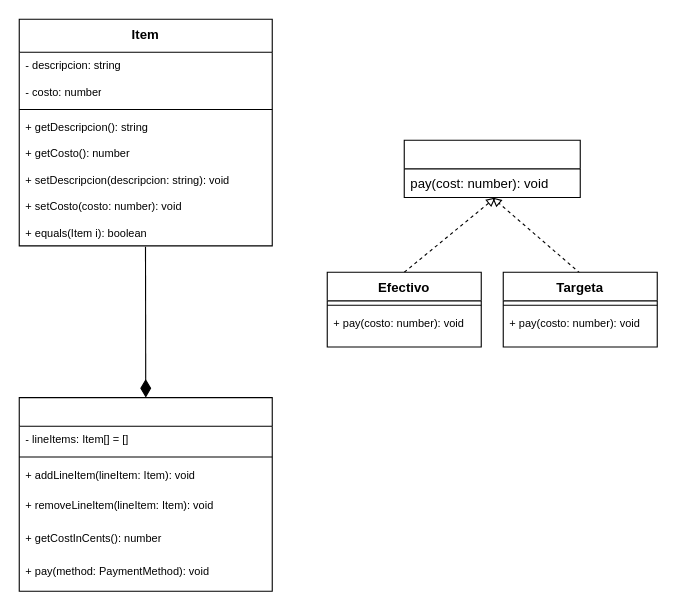
The diagram is 677 pixels wide and 614 high, and some of its shapes have lost their labels. Each missing label, with the box of its shape:
Cuenta: (18, 397, 272, 591)
«interface» PaymentMethod: (403, 139, 580, 197)
